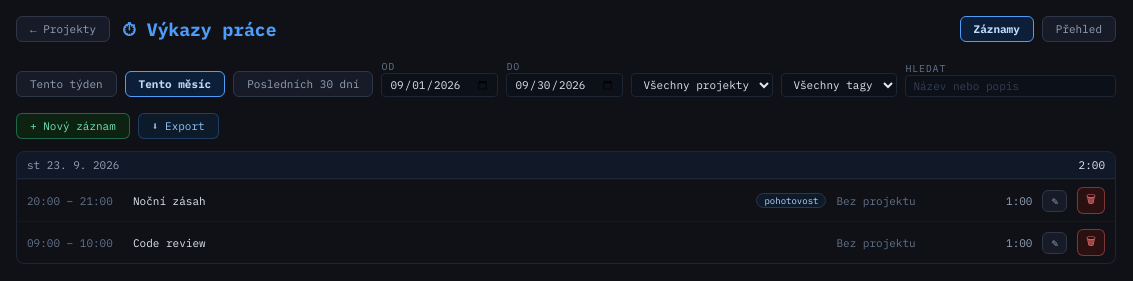
it: seznam výkazů › filtr podle tagu nechá jen záznamy s tím tagem
The width and height of the screenshot is (1133, 281).
Check: the text "Code review" is shown, box [133,236,206,250]
Step 1. Select "pohotovost" in the dropdown named "Filtr podle tagu" → (839, 85), box [781,73,897,97]
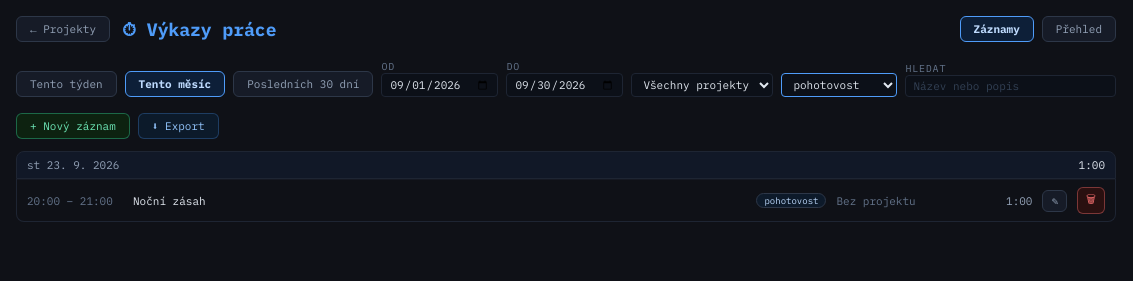
Check: the text "Noční zásah" is shown, box [133,194,206,208]
Check: the text "Code review" is gone
